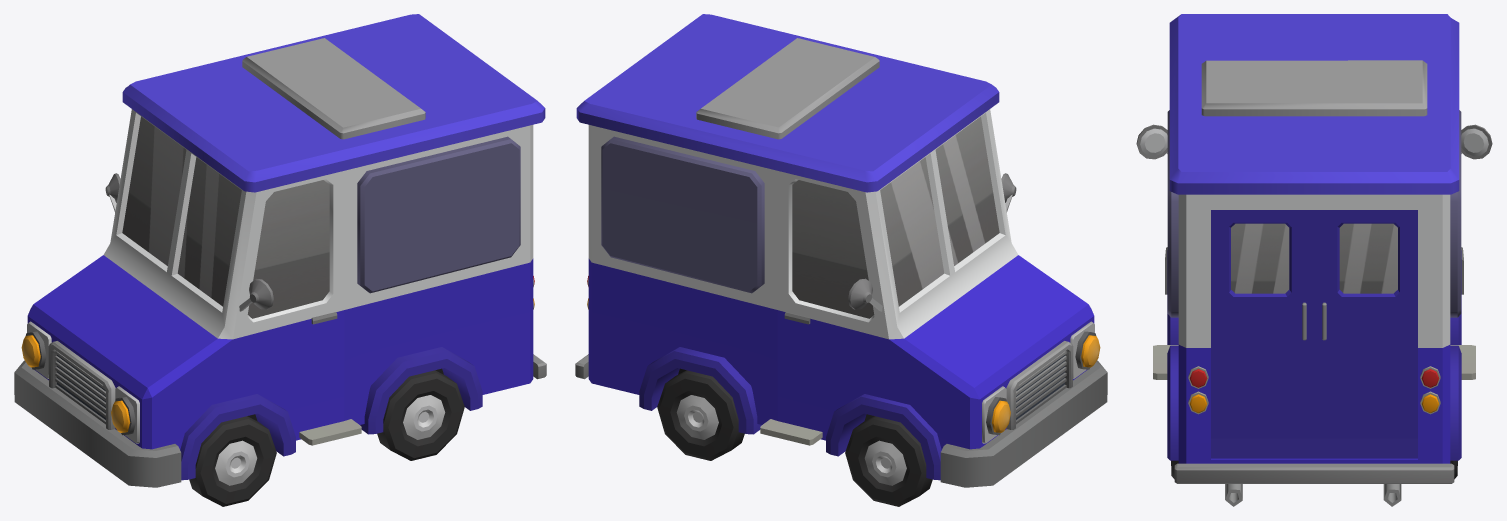
The model's file is Car_14_C.gltf.
3 views of the same model, side by side, from view 1: azimuth 30°, elevation 25°; view 2: azimuth 150°, elevation 25°; view 3: azimuth 270°, elevation 25° (orthographic). The views are drawn at different scales.
Visible parts, largest first — view 1: Car_14_C, RL, FL; view 2: Car_14_C, RR, FR; view 3: Car_14_C.
Boxes of the visible parts, x1,y1,x2,y2 form: Car_14_C: (14, 14, 546, 487); RL: (377, 370, 464, 460); FL: (189, 416, 276, 506); Car_14_C: (575, 14, 1107, 487); RR: (657, 370, 744, 460); FR: (845, 416, 932, 506); Car_14_C: (1136, 14, 1492, 506).
Size of the model in its own units: 2.75 by 2.1 by 1.8.
Materials: 4 (4 with a texture image).
